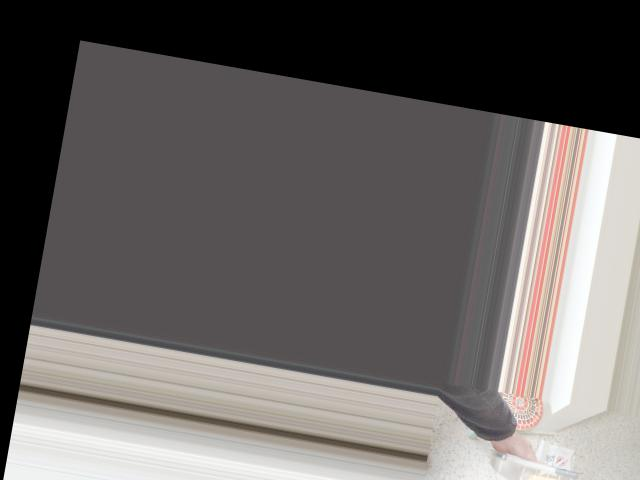cheese: (489, 433, 584, 480)
